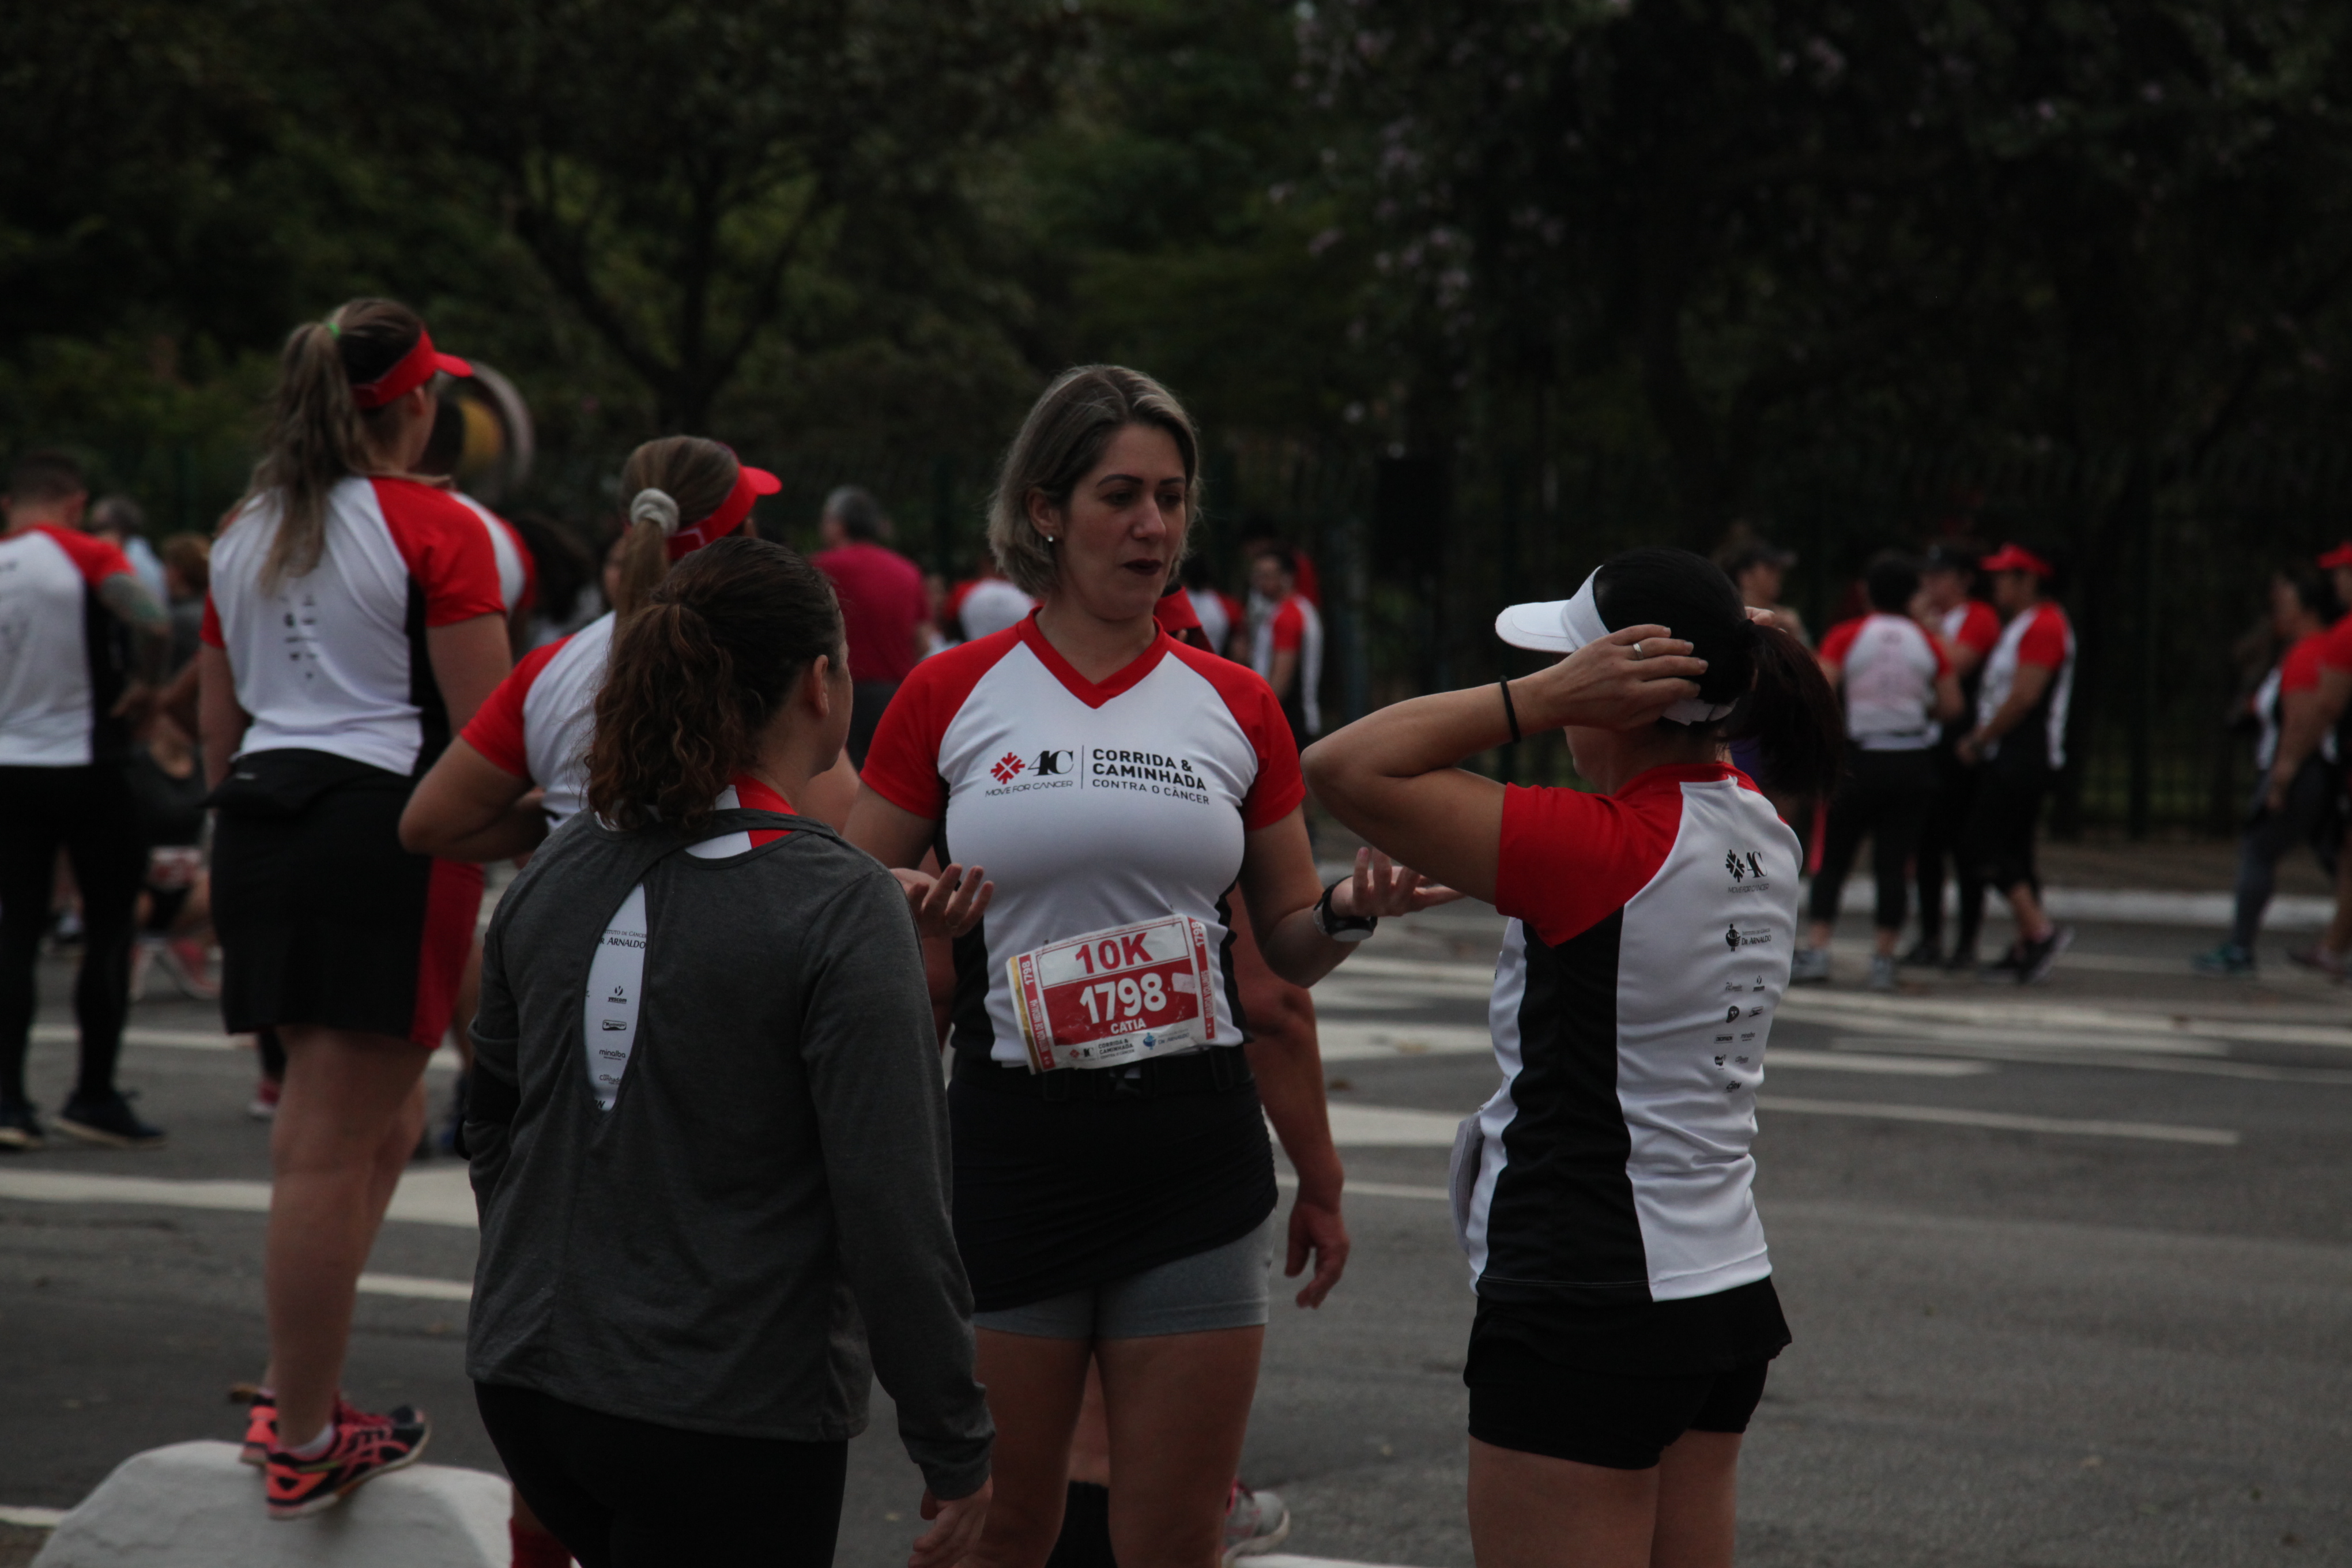bibtag: (996, 910, 1221, 1081)
